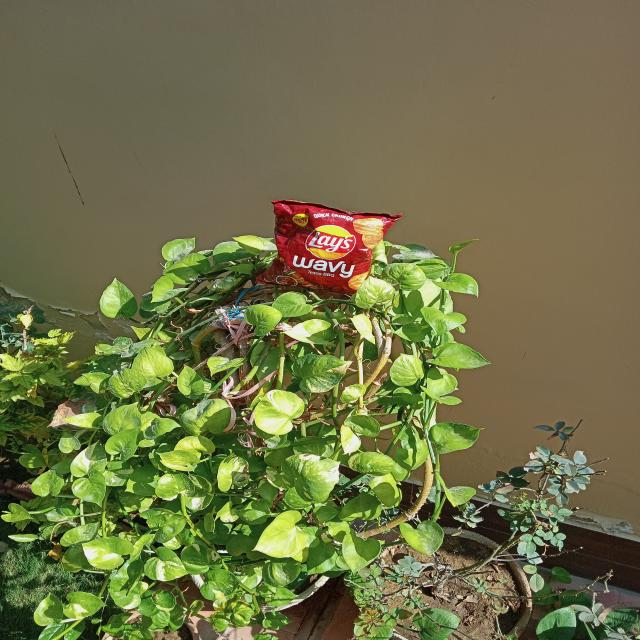Plastic: (258, 192, 398, 302)
